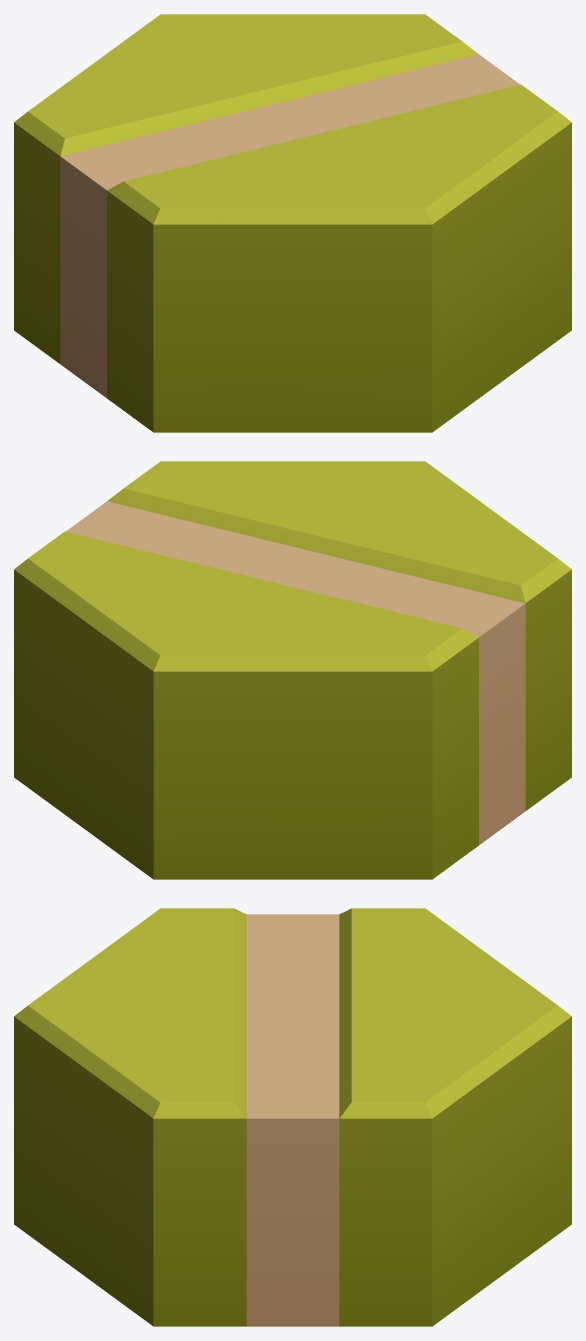
File: b_hexa_sol_route.glb
The picture shows the model from 3 angles, top to bottom: view 1: azimuth 30°, elevation 25°; view 2: azimuth 150°, elevation 25°; view 3: azimuth 270°, elevation 25°; orthographic projection.
Visible parts, largest first — view 1: b_hexa_sol_route; view 2: b_hexa_sol_route; view 3: b_hexa_sol_route.
Part boxes in pixels (x1,y1,x2,y2): b_hexa_sol_route: [14, 14, 571, 432]; b_hexa_sol_route: [14, 461, 571, 879]; b_hexa_sol_route: [14, 908, 571, 1326].
Bounding box in the file's own units: 2 × 1 × 2.31.
1 material, 1 textured.
